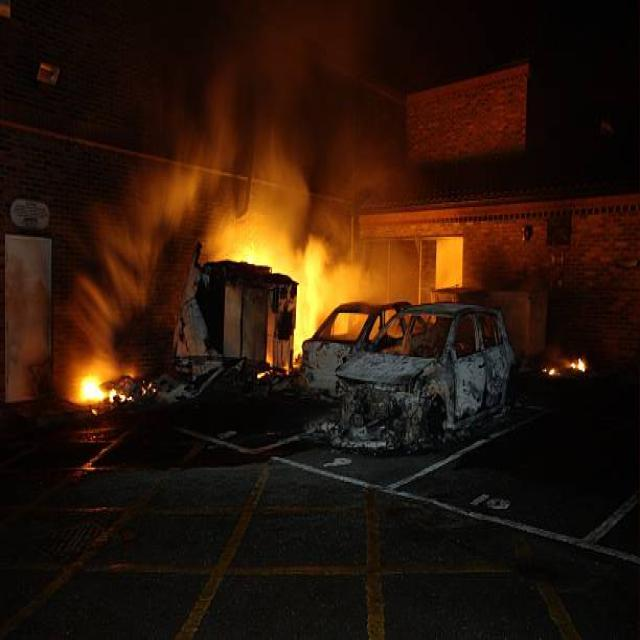Fire: (70, 368, 120, 408), (233, 238, 277, 272)
Smoke: (67, 130, 212, 378), (228, 140, 360, 358)
